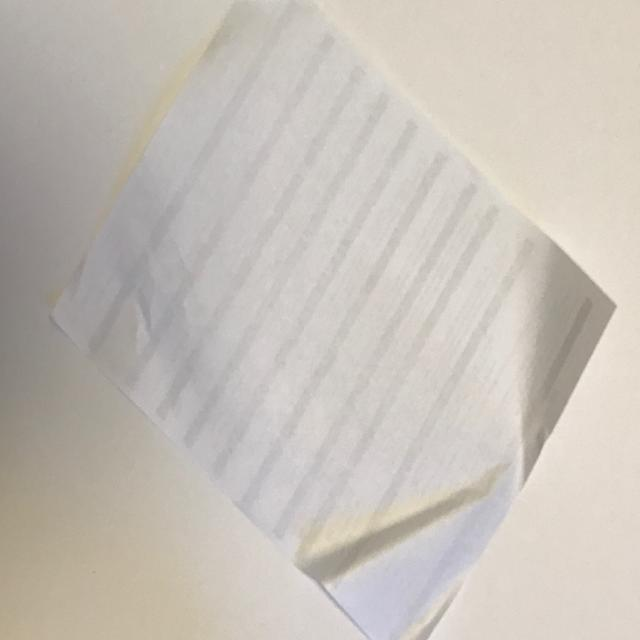paper: (49, 1, 619, 640)
